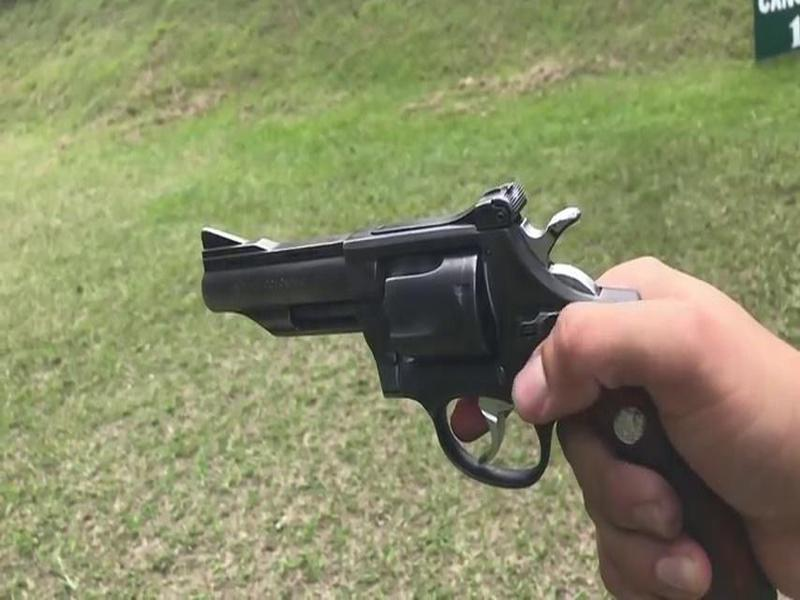Revolver: (173, 160, 617, 509)
